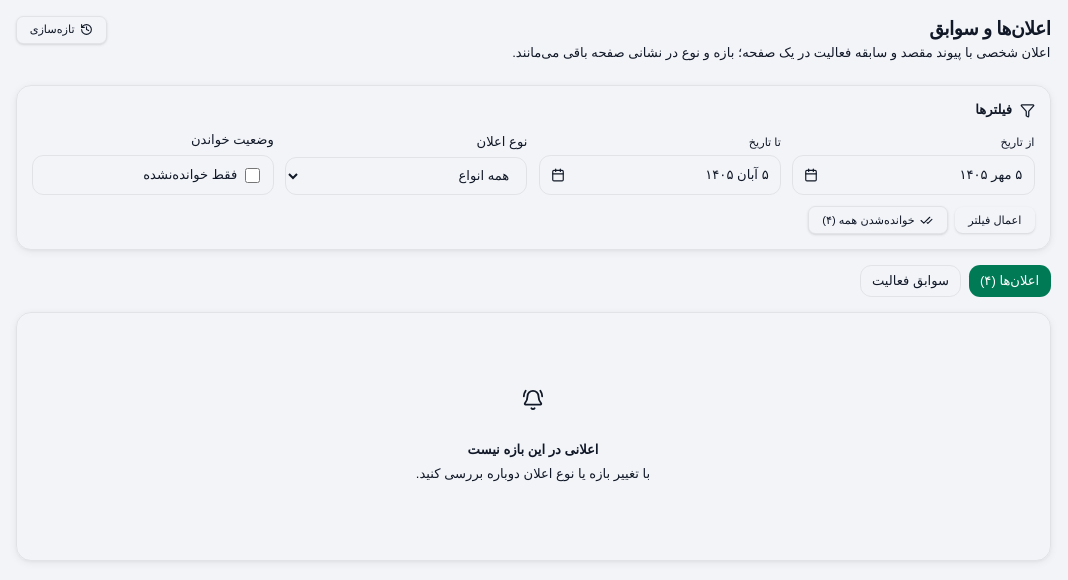
Test case: NotificationsRecordsPage filter bar › swaps the notification filter for the activity filter on the second tab
Expected: the text "از تاریخ" is shown, [1000,136,1034,148]
Expected: the text "نوع اعلان" is shown, [477,134,527,149]
Click the tab "سوابق فعالیت" at (910, 281), box [860,265,961,297]
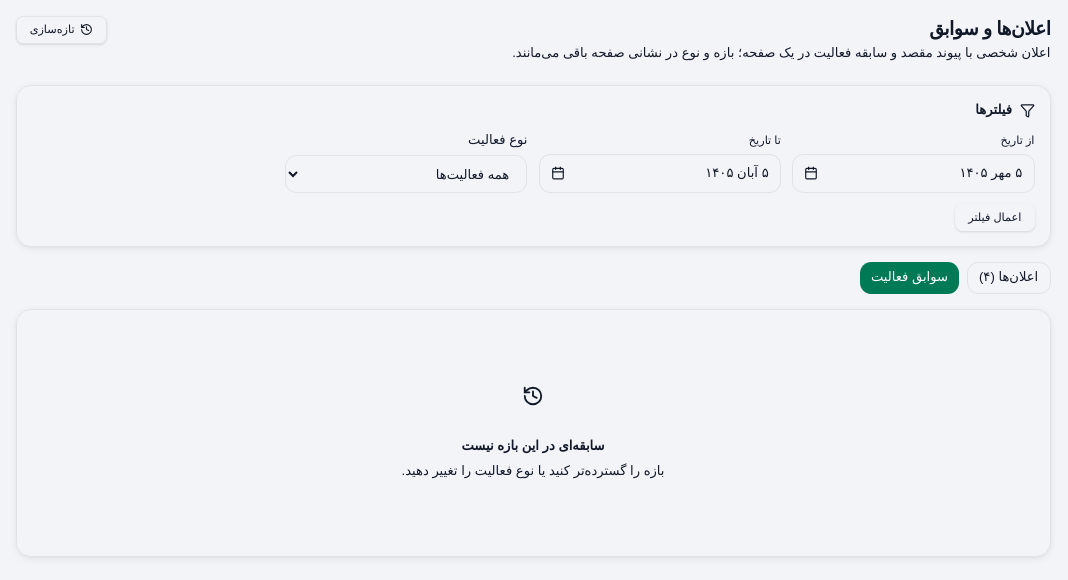
Expected: the text "نوع اعلان" is gone
Expected: the text "نوع فعالیت" is shown, [468,132,527,147]
Expected: the text "وضعیت خواندن" is gone
